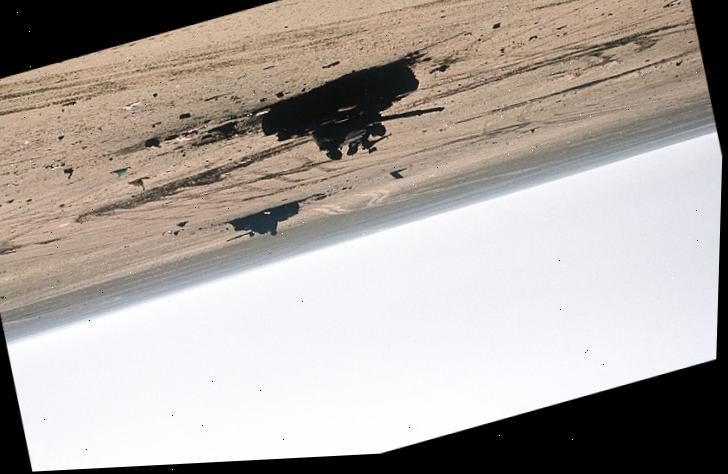tank: (247, 46, 451, 175), (217, 194, 306, 249)
